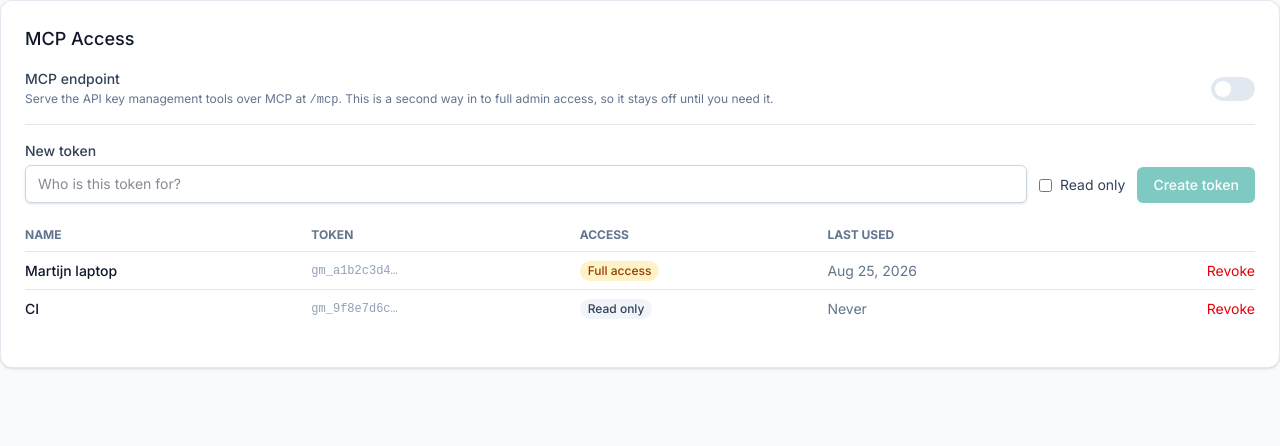
Test case: MCPTokensPanel › reverts the toggle and reports when the update fails
Click the checkbox with id "mcpToggle".
click(640, 88)  # box x1=25 y1=69 x2=1255 y2=108
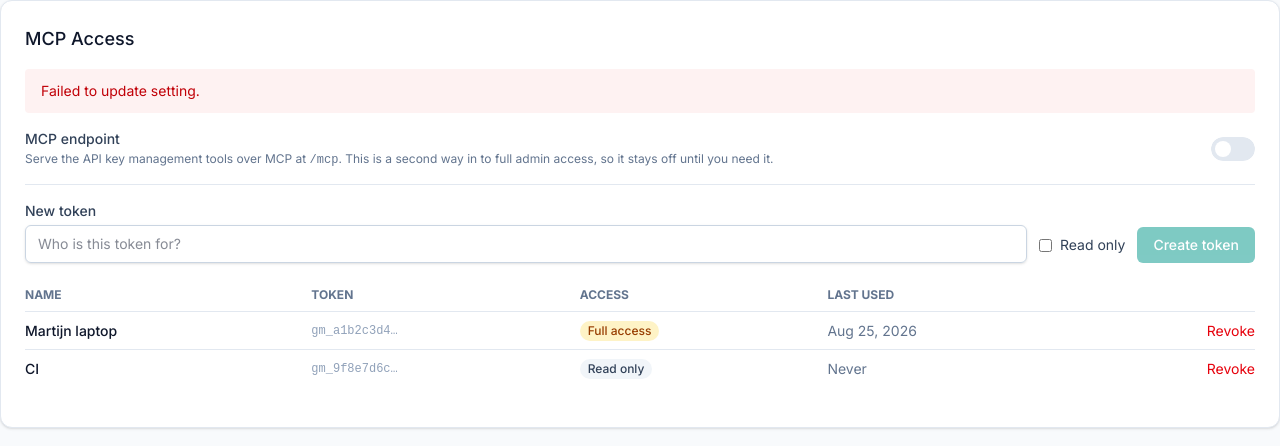
Now the text "Failed to update setting." is shown, box x1=25 y1=69 x2=1255 y2=113
